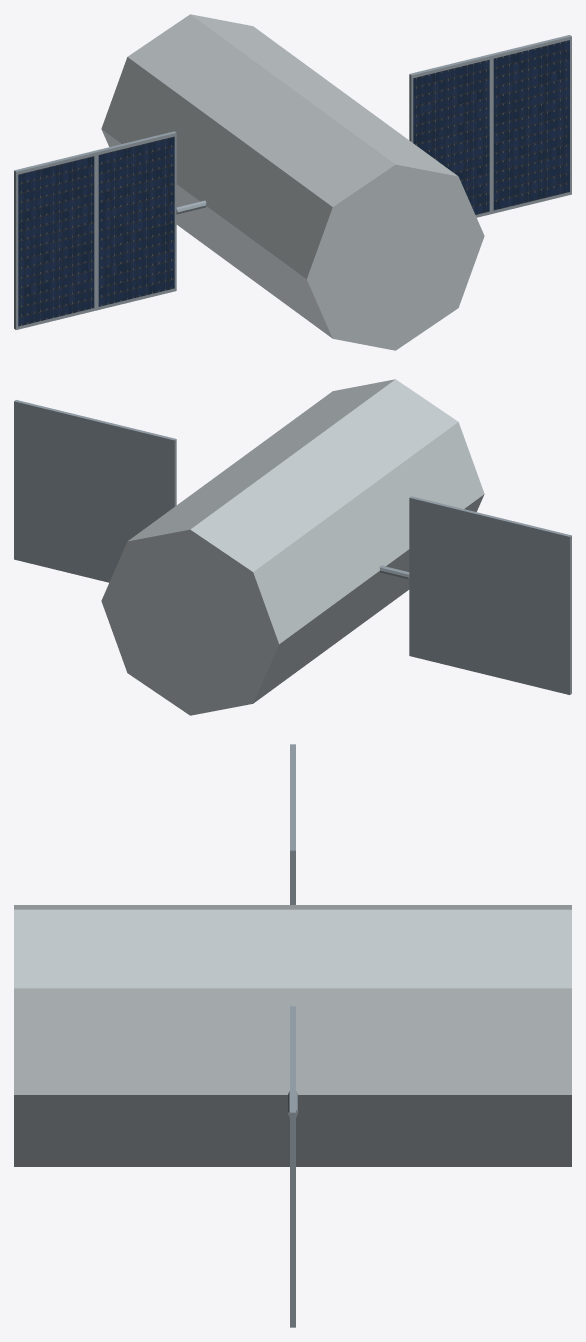
File: ref-aem-10818.glb
3 renders of one model, top to bottom at view 1: azimuth 30°, elevation 25°; view 2: azimuth 150°, elevation 25°; view 3: azimuth 270°, elevation 25°, orthographic. The views are drawn at different scales.
Parts seen in each view (by area): view 1: Spacecraft body, Photovoltaic laminates (×4), Array frame (×4); view 2: Spacecraft body, Array frame (×4); view 3: Spacecraft body, Array frame.
Boxes of the visible parts, x1,y1,x2,y2 form: Spacecraft body: (101, 14, 484, 350); Photovoltaic laminates (×4): (18, 40, 569, 326); Array frame (×4): (14, 35, 571, 329); Spacecraft body: (101, 379, 484, 715); Array frame (×4): (14, 400, 571, 694); Spacecraft body: (14, 905, 571, 1166); Array frame: (290, 1059, 295, 1327).
Bounding box in the file's own units: 2.5 × 0.8 × 1.6.
3 materials, 1 textured.
